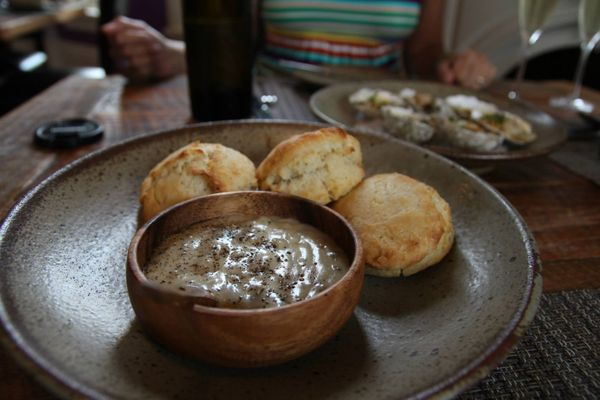pizza: (181, 0, 261, 122)
sushi: (124, 190, 365, 368)
